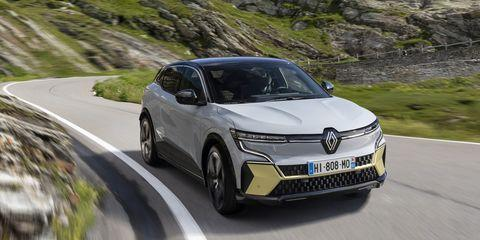Renault: (318, 123, 345, 158)
